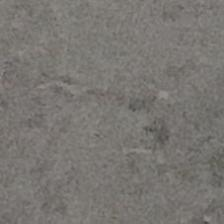Non_Crack: (7, 3, 224, 224)
